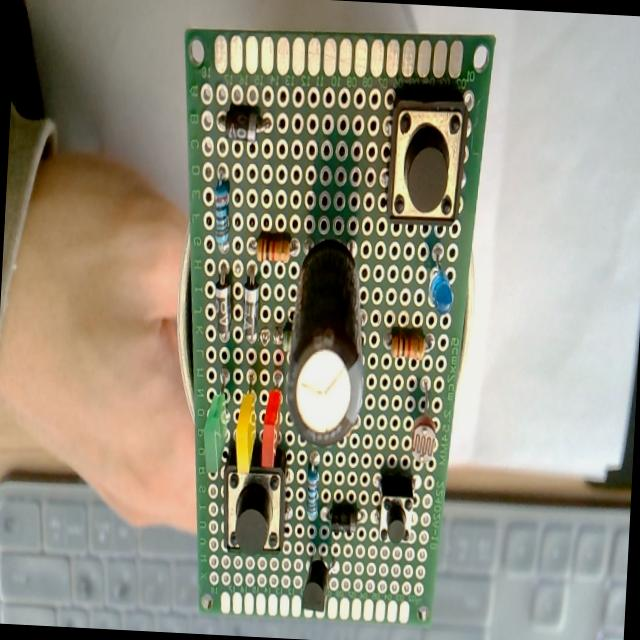Electrolytic capacitor: (282, 236, 371, 448)
cds: (410, 372, 442, 463)
diode: (222, 106, 269, 141), (212, 274, 234, 344), (241, 277, 260, 343), (330, 506, 358, 536)
led: (202, 374, 230, 476), (234, 388, 258, 477), (426, 247, 456, 317), (260, 387, 282, 470)
resistor: (212, 178, 234, 255), (388, 330, 428, 360), (256, 235, 292, 263), (304, 461, 321, 520), (282, 326, 294, 354)
switch: (384, 90, 469, 230), (221, 444, 288, 556), (377, 476, 416, 544)
transistor: (302, 558, 330, 614)
